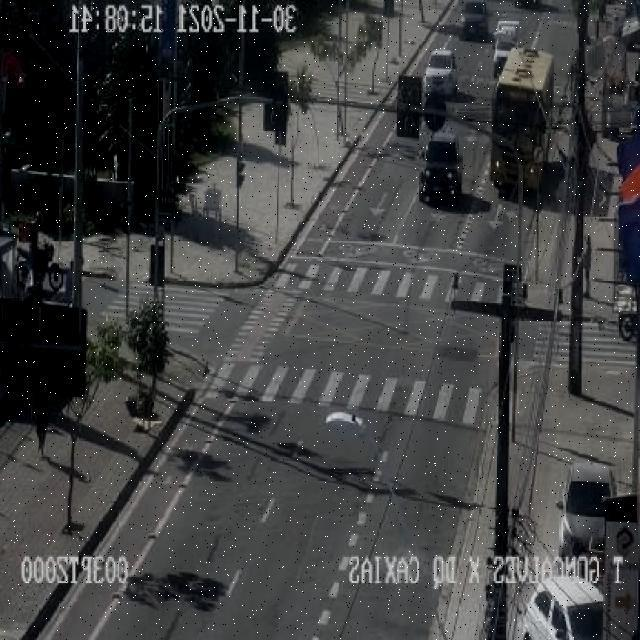Bus: (488, 48, 555, 196)
Car: (417, 130, 463, 203), (422, 46, 458, 95), (457, 0, 490, 39)
